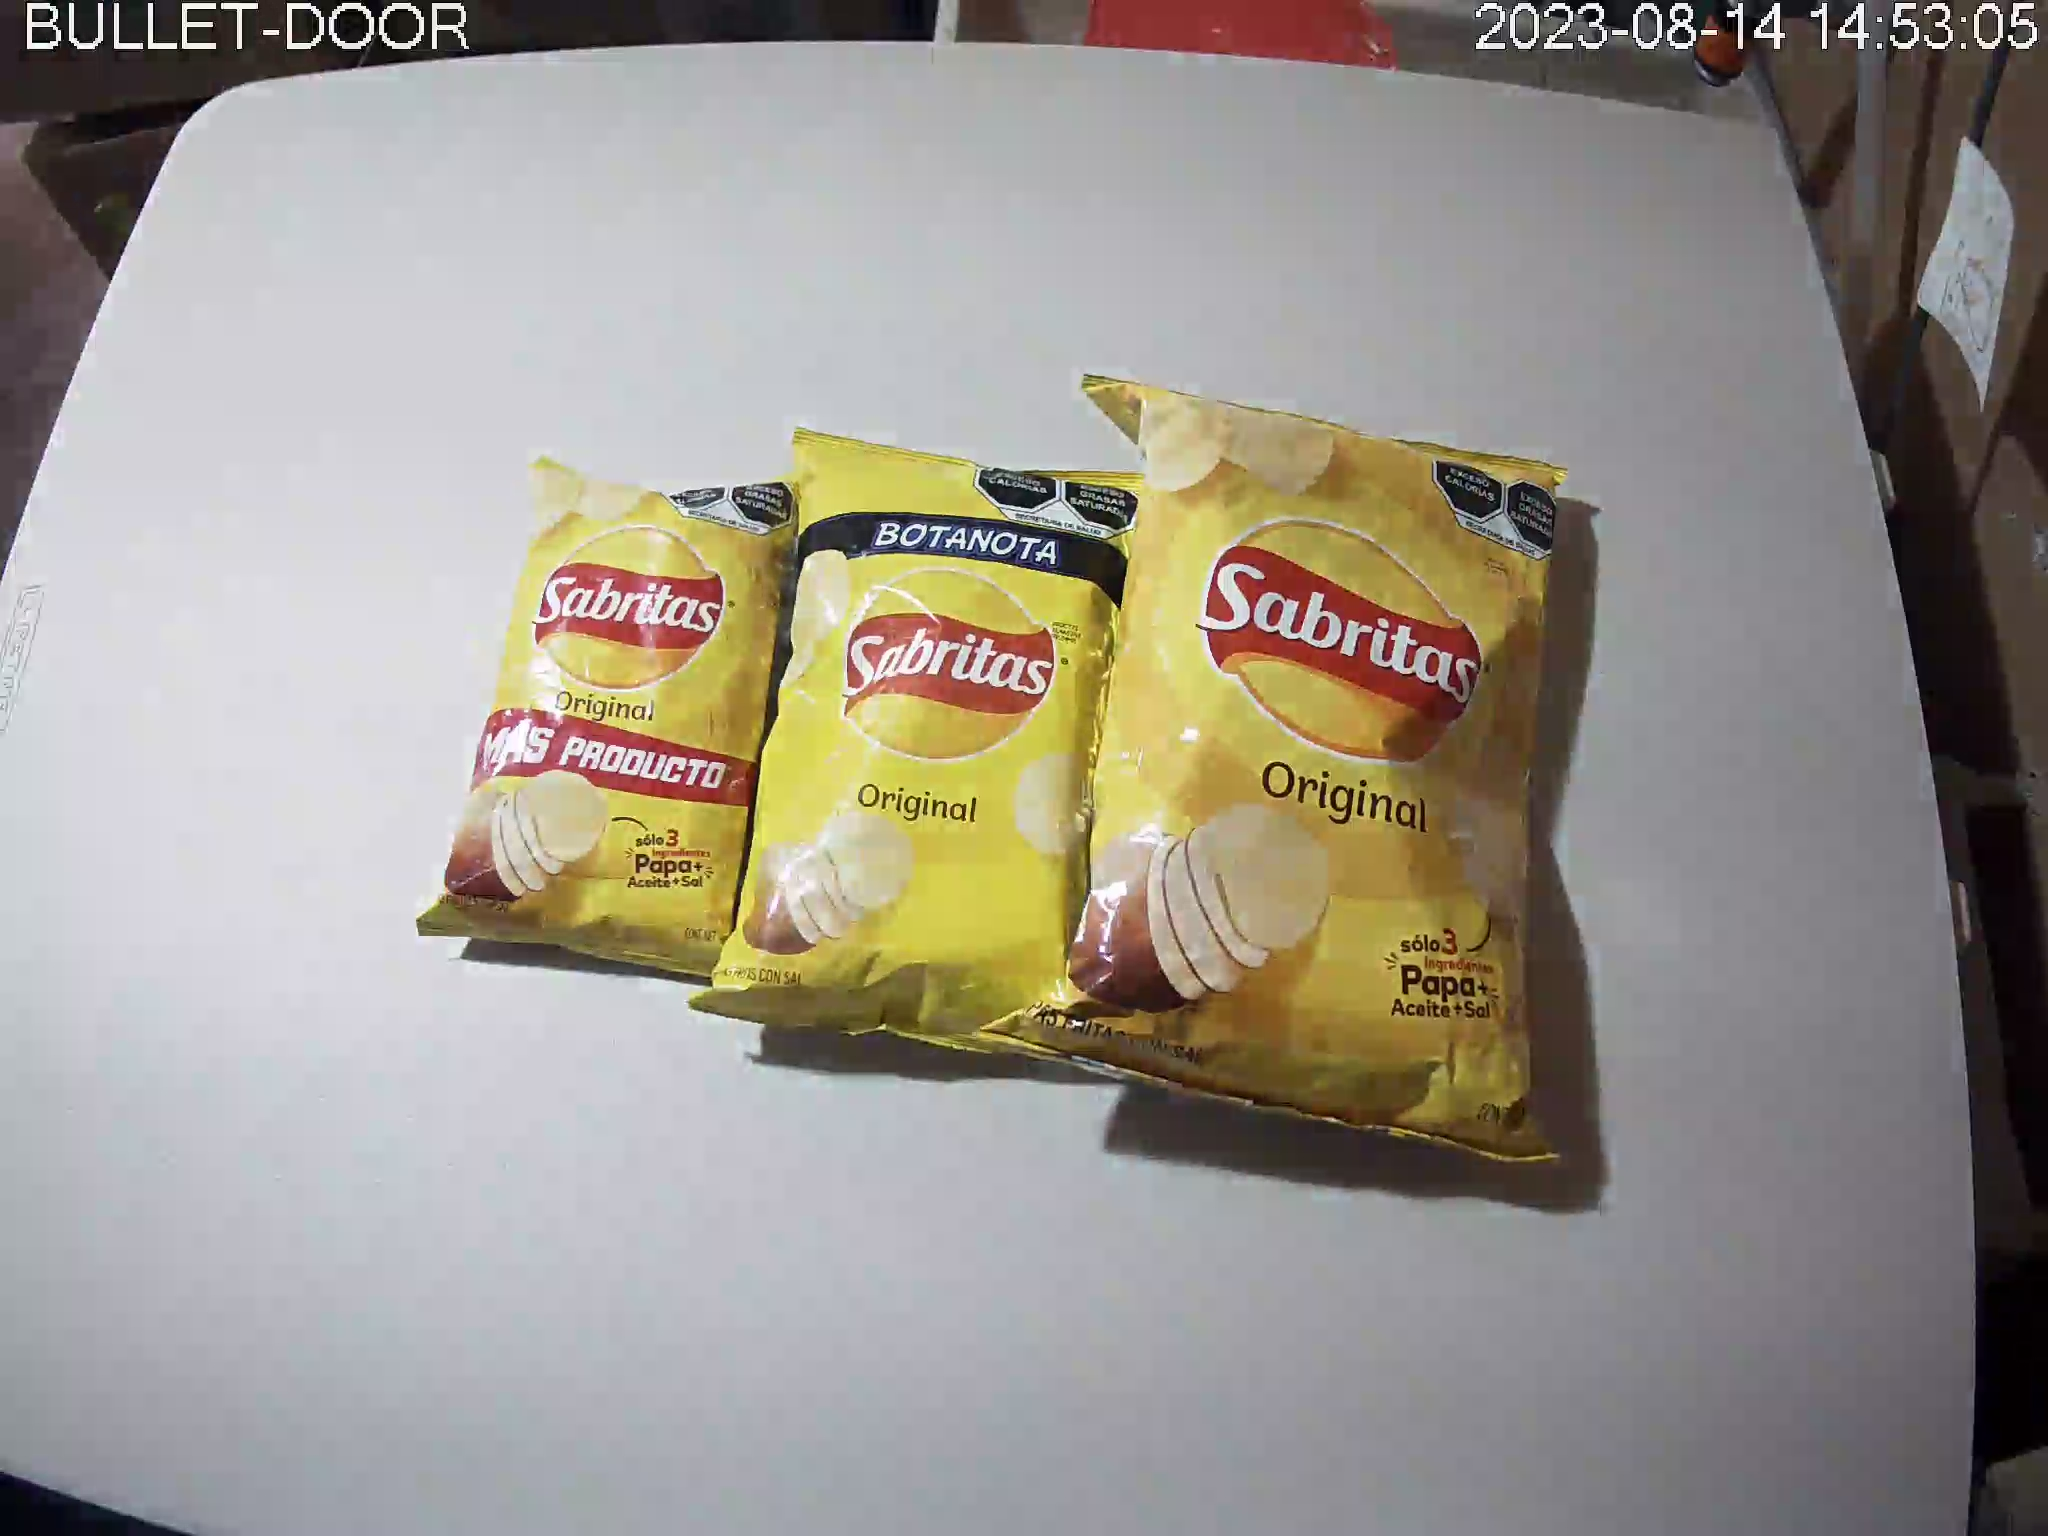Sabritas_160_F: (959, 373, 1572, 1176)
Sabritas_45_F: (416, 458, 816, 983)
Sabritas_64_F: (690, 428, 1156, 1070)
